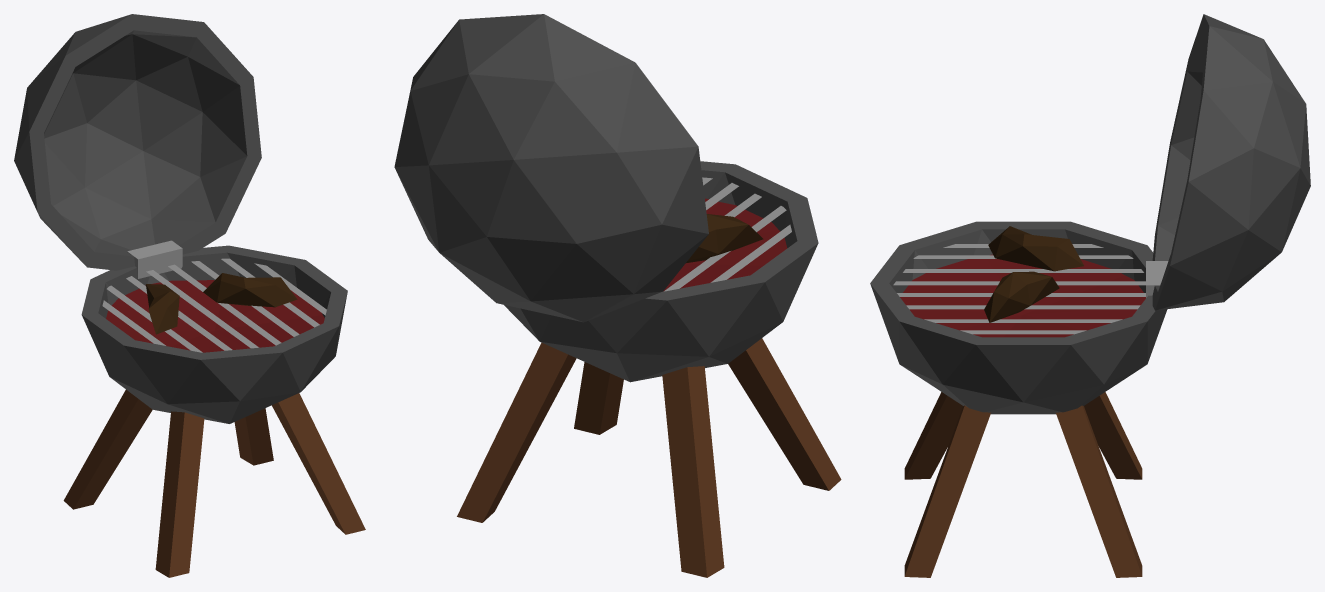
File: barbecue.gltf
3 renders of one model, left to right at view 1: azimuth 30°, elevation 25°; view 2: azimuth 150°, elevation 25°; view 3: azimuth 270°, elevation 25°, orthographic. The views are drawn at different scales.
Visible parts, largest first — view 1: Icosphere.001; view 2: Icosphere.001; view 3: Icosphere.001.
Boxes of the visible parts, <box> form: Icosphere.001: <box>14,14,365,577</box>; Icosphere.001: <box>394,14,841,577</box>; Icosphere.001: <box>870,14,1310,577</box>.
Size of the model in its own units: 2.17 by 4.08 by 3.28.
